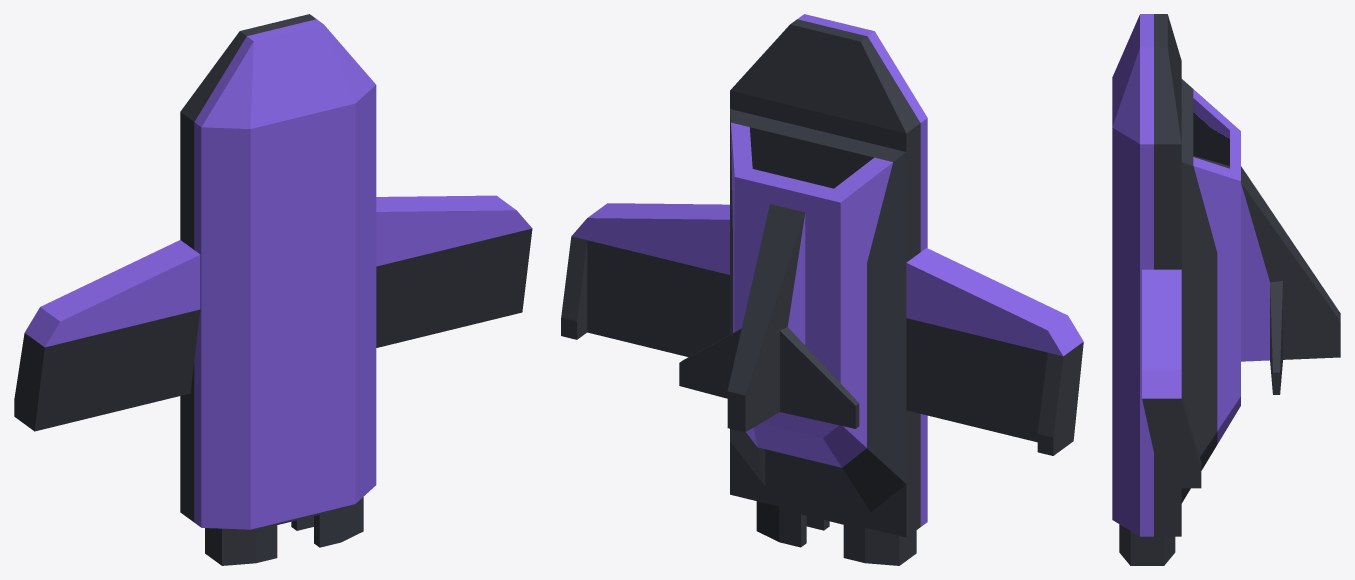
Rendered from ship.fbx.
3 renders of one model, left to right at view 1: azimuth 30°, elevation 25°; view 2: azimuth 150°, elevation 25°; view 3: azimuth 270°, elevation 25°, orthographic. The views are drawn at different scales.
Visible parts, largest first — view 1: hull_lower, wing_slantEdgeWinglet (×2), hull_lowerFrontPoint, engine_low; view 2: wing_slantEdgeWinglet (×2), hull_topEngine, rudder_sides, hull_lowerFrontPoint, hull_topIntake, hull_lower, engine_low; view 3: hull_lower, hull_topEngine, hull_lowerFrontPoint, rudder_sides, wing_slantEdgeWinglet, hull_topIntake, engine_low.
Boxes of the visible parts, x1,y1,x2,y2 form: hull_lower: (180, 123, 376, 529); wing_slantEdgeWinglet (×2): (14, 195, 532, 431); hull_lowerFrontPoint: (180, 14, 376, 202); engine_low: (205, 497, 363, 565); wing_slantEdgeWinglet (×2): (561, 203, 1083, 455); hull_topEngine: (730, 109, 906, 350); rudder_sides: (679, 204, 859, 432); hull_lowerFrontPoint: (730, 14, 927, 206); hull_topIntake: (730, 294, 906, 511); hull_lower: (730, 192, 927, 537); engine_low: (756, 501, 916, 565); hull_lower: (1112, 199, 1181, 536); hull_topEngine: (1181, 79, 1240, 340); hull_lowerFrontPoint: (1112, 14, 1181, 215); rudder_sides: (1241, 166, 1340, 394); wing_slantEdgeWinglet: (1142, 269, 1201, 488); hull_topIntake: (1181, 324, 1240, 503); engine_low: (1119, 524, 1175, 565).
Size of the model in its own units: 27.91 by 28 by 11.54.
Materials: 1 (1 with a texture image).
